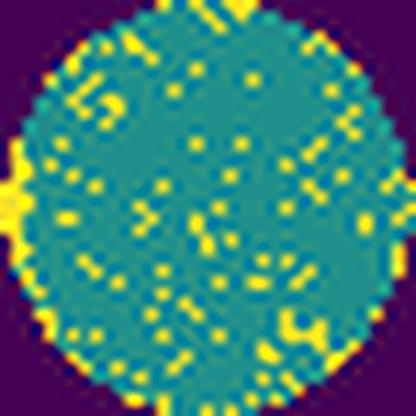Edge-Loc: (0, 135, 41, 271), (221, 0, 261, 25)
